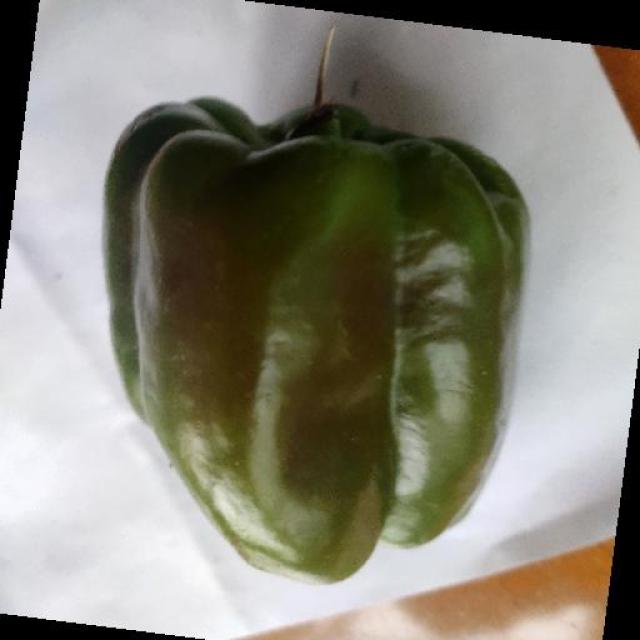Stale_Capsicum: (139, 129, 503, 585)
